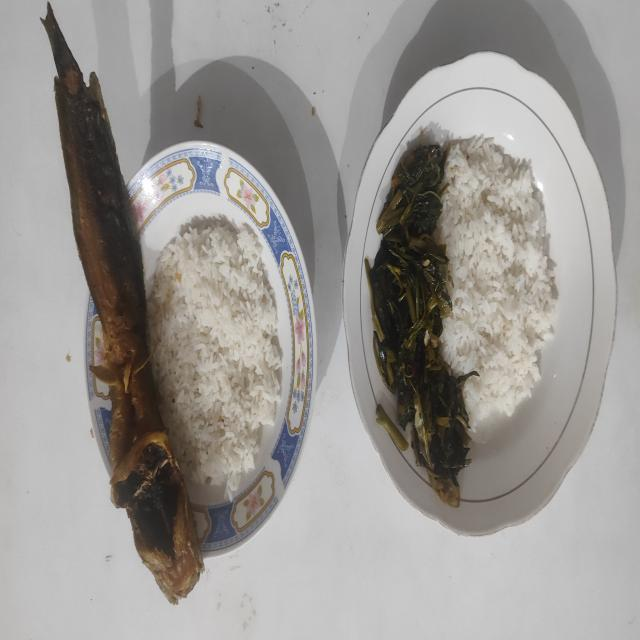nasi_putih: (148, 216, 282, 499), (435, 136, 558, 431)
tumis_kangkung: (364, 143, 479, 508)
